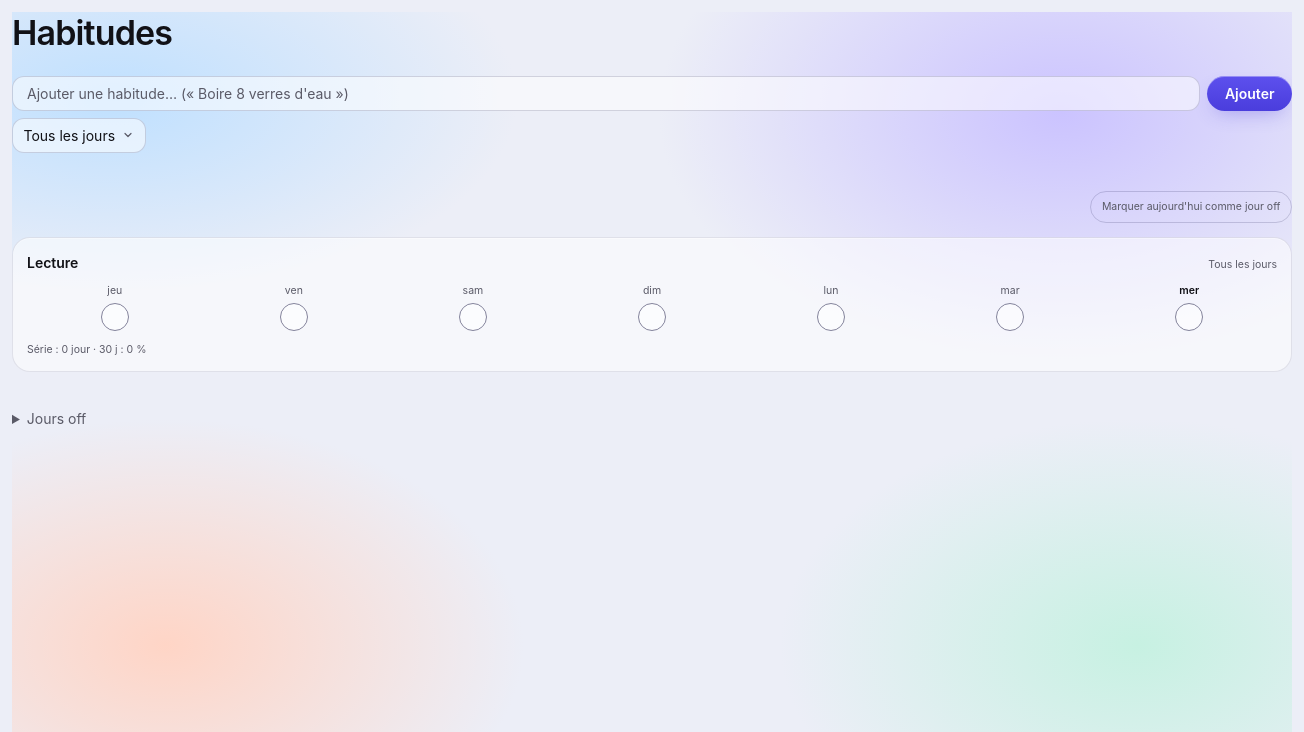
Scenario: HabitsPage › marque aujourd’hui comme jour off
The width and height of the screenshot is (1304, 732).
Step 1. Click the button "Marquer aujourd'hui comme jour off" → (1191, 207), box [1090, 191, 1292, 222]
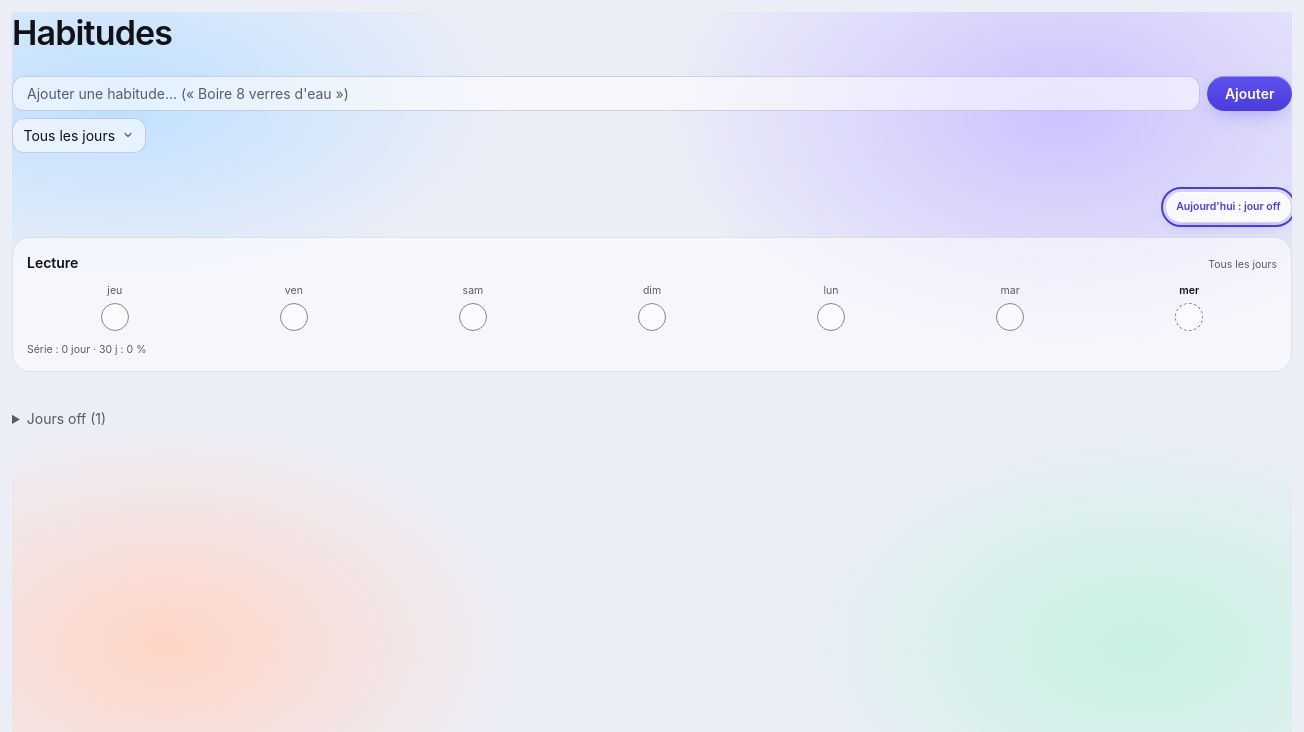
Check: the button "Aujourd'hui : jour off" is shown, box [1165, 191, 1292, 222]
